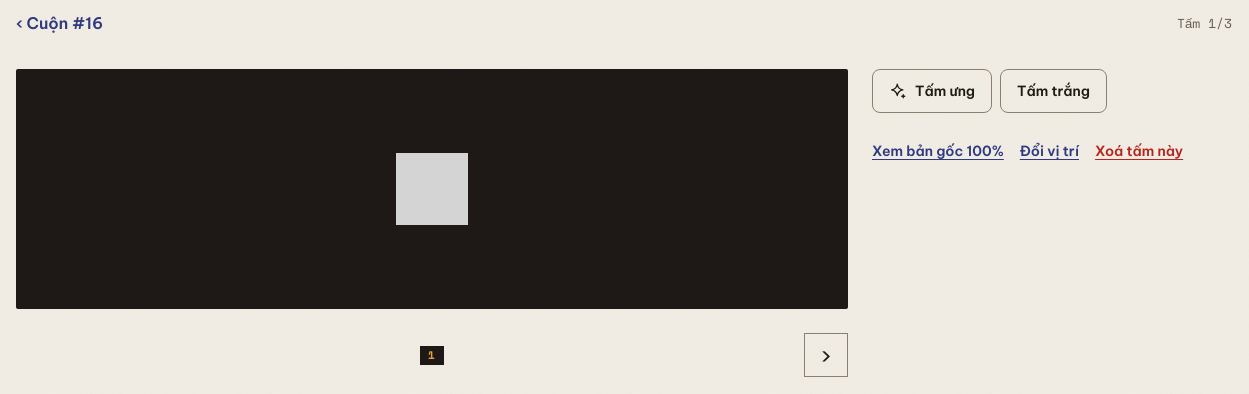
Test: FrameView (FrameView board) › rolls the toggle back when the save fails
What coordinates should you click on to do the following:
click the button "Tấm ưng"
I would click on:
 (932, 91)
Its box is [872,69,992,113].
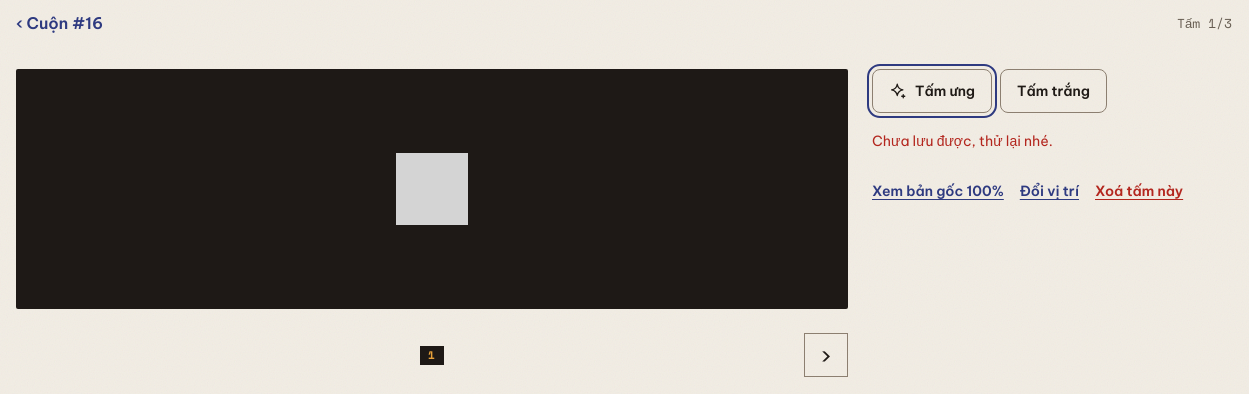
Expected: the message shows "Chưa lưu được", [872,132,1053,150]
